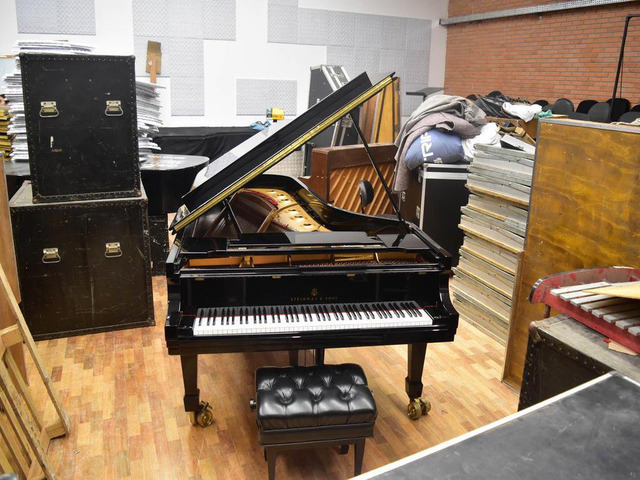Piano: (160, 57, 464, 439)
